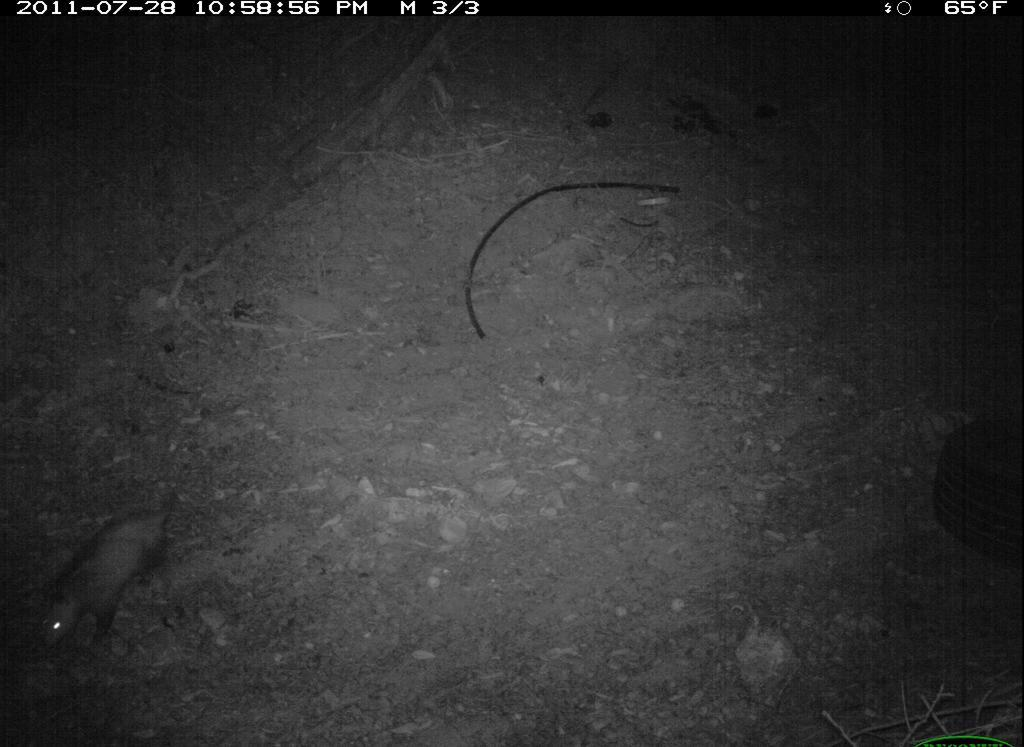opossum: (33, 465, 180, 662)
